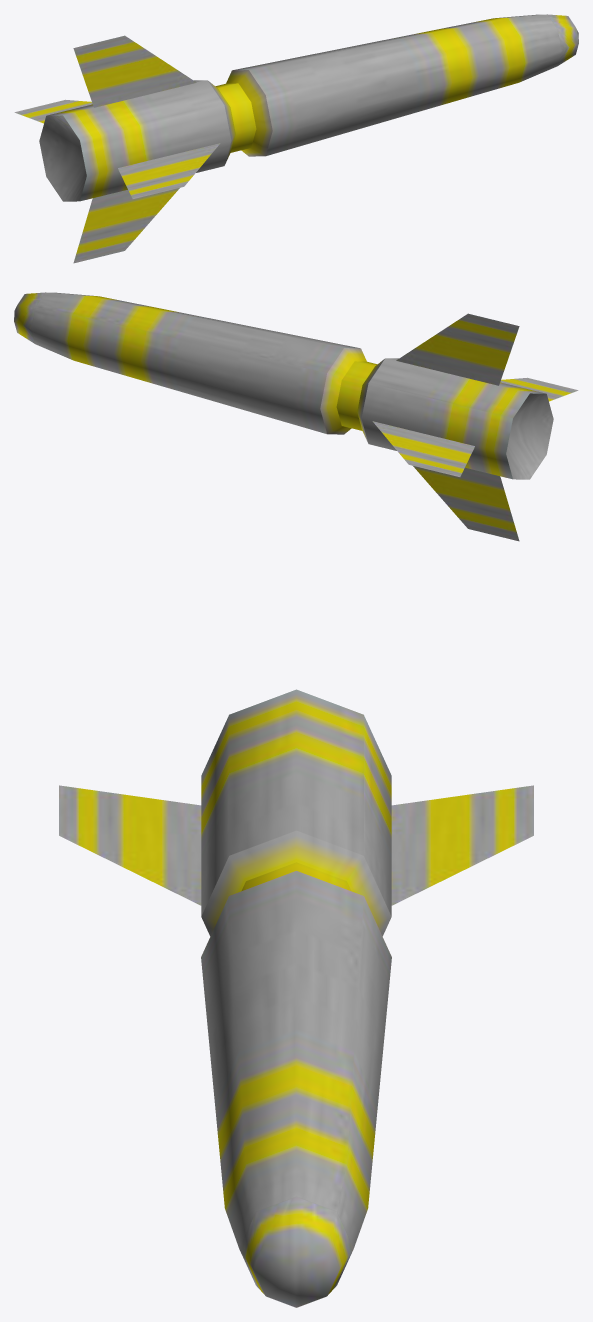
Rendered from forma04.obj.
3 views of the same model, one above another, from view 1: azimuth 30°, elevation 25°; view 2: azimuth 150°, elevation 25°; view 3: azimuth 270°, elevation 25° (orthographic). The views are drawn at different scales.
Parts seen in each view (by area): view 1: object; view 2: object; view 3: object.
Boxes of the visible parts, <box> form: object: <box>14,14,578,263</box>; object: <box>14,292,578,541</box>; object: <box>59,689,533,1307</box>.
Bounding box in the file's own units: 50 × 19.96 × 19.96.
Materials: 1 (1 with a texture image).
